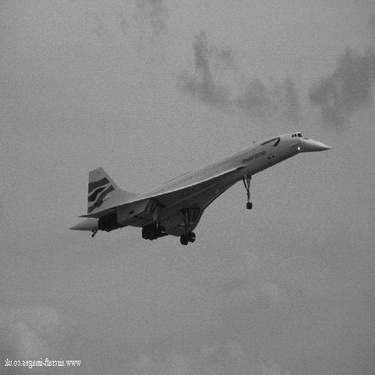airplane: (62, 130, 340, 246)
